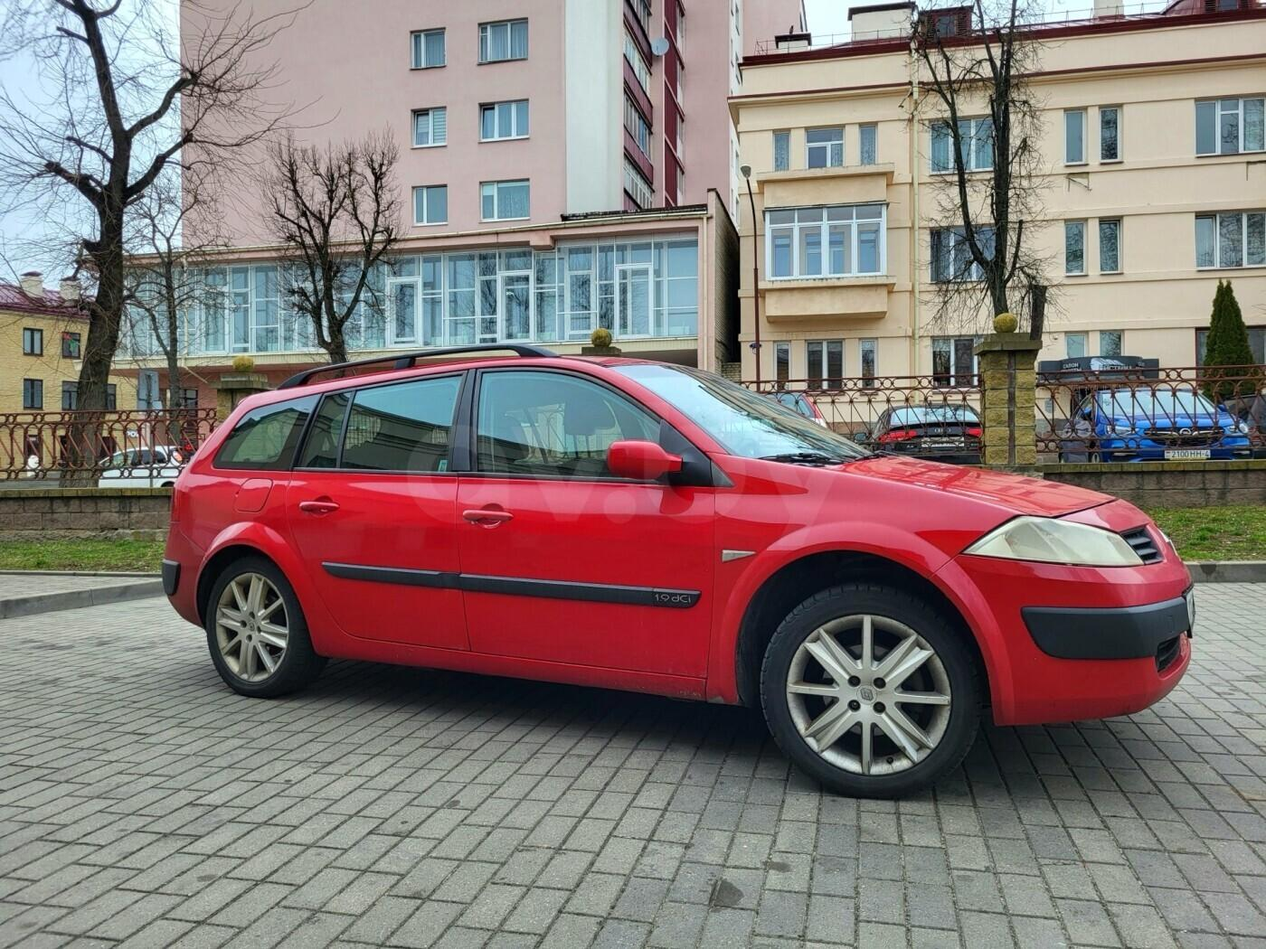Megane_2002-2006: (156, 362, 1208, 782)
